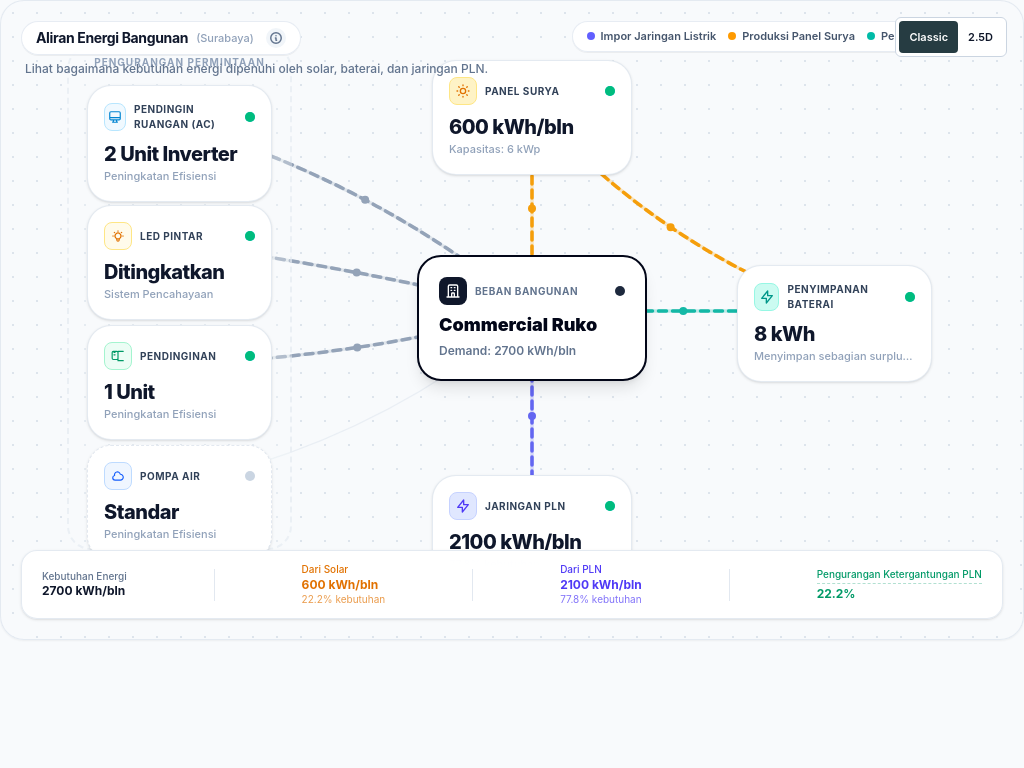
Test: Energy Twin 2.5D › switches from Classic to 2.5D without removing the classic mode control
Click the button "2.5D". click: coordinates (980, 37)
box: [958, 21, 1003, 53]
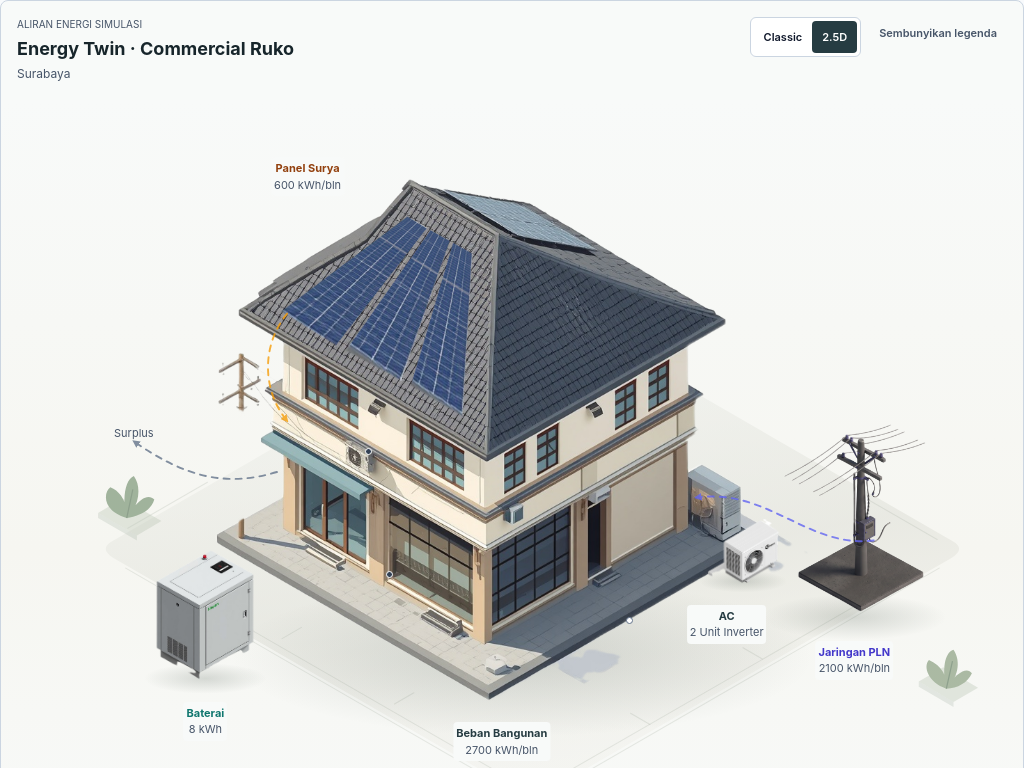
expect the heading "Energy Twin · Commercial Ruko" is shown: met, box [17, 35, 294, 62]
